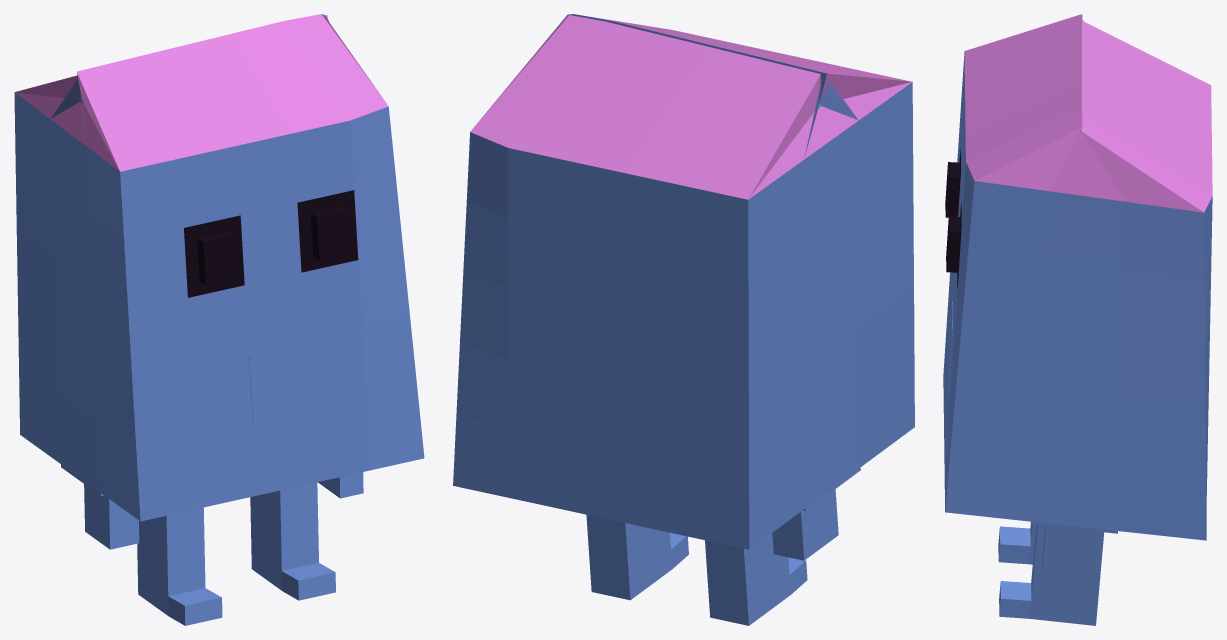
The model's file is Figurita.glb.
3 renders of one model, left to right at view 1: azimuth 30°, elevation 25°; view 2: azimuth 150°, elevation 25°; view 3: azimuth 270°, elevation 25°, orthographic. The views are drawn at different scales.
Parts seen in each view (by area): view 1: Cube; view 2: Cube; view 3: Cube.
Boxes of the visible parts, x1,y1,x2,y2 form: Cube: (14,14,424,625); Cube: (453,14,914,625); Cube: (943,14,1212,625).
Size of the model in its own units: 2.46 by 4.11 by 1.96.
